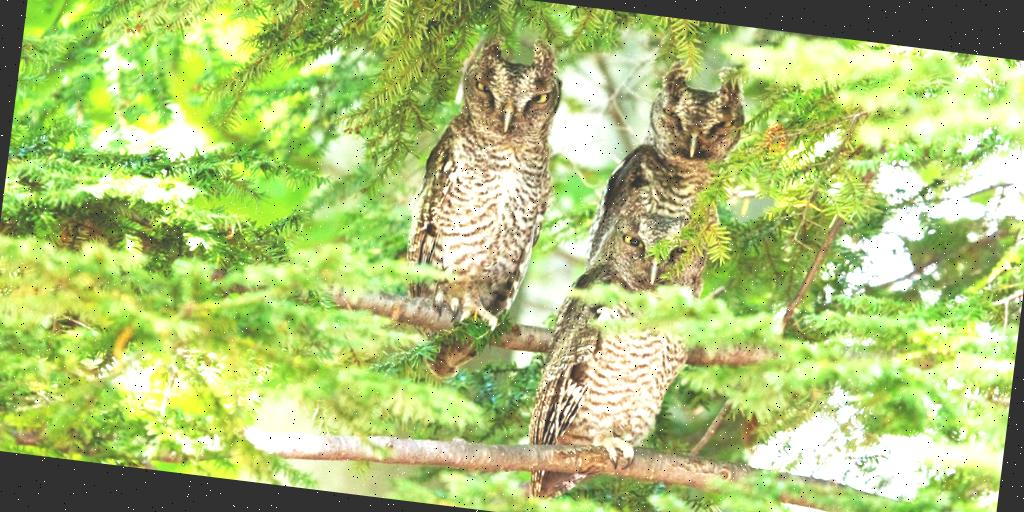Owl: (392, 26, 570, 390), (514, 205, 716, 512), (592, 48, 757, 277)
